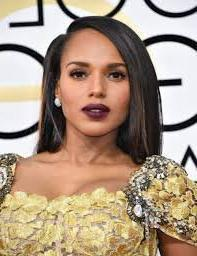Sober: (60, 33, 127, 129)
